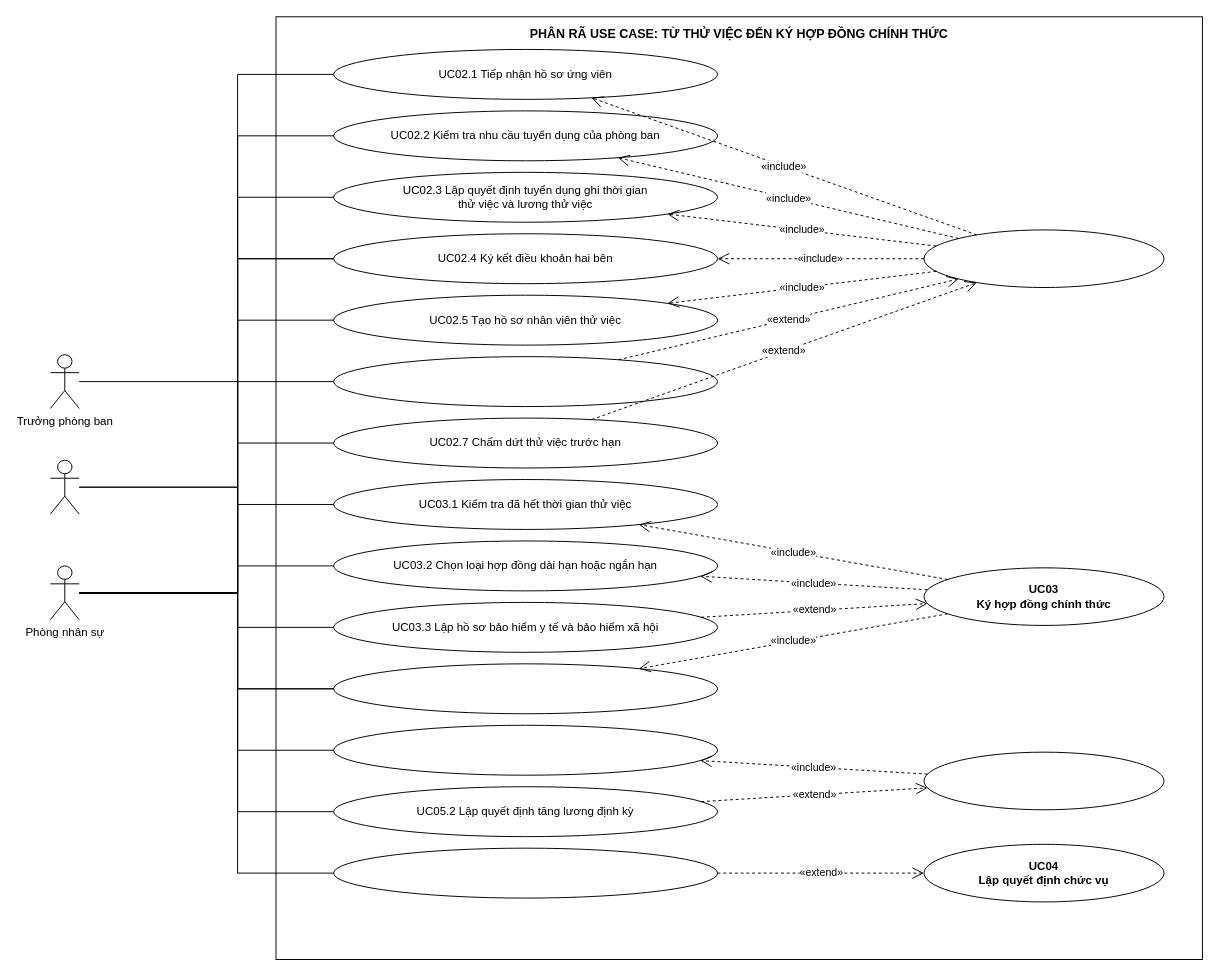
The diagram is 1219 pixels wide and 976 high, and some of its shapes have lost their labels. The shapes that lost their labels are listed below. From the top down, each one's centre as x and y in pixels, then its label:
At (x=1043, y=258): "UC02 Lập quyết định tuyển dụng".
At (x=525, y=381): "UC02.6 Theo dõi và đánh giá kết quả thử việc".
At (x=64, y=486): "Ứng viên".
At (x=525, y=688): "UC03.4 Ký hợp đồng chính thức và cập nhật trạng thái nhân viên".
At (x=525, y=749): "UC05.1 Lập quyết định lương ban đầu".
At (x=1043, y=780): "UC05 Lập quyết định lương".
At (x=525, y=872): "UC04.1 Lập quyết định bổ nhiệm chức vụ".
